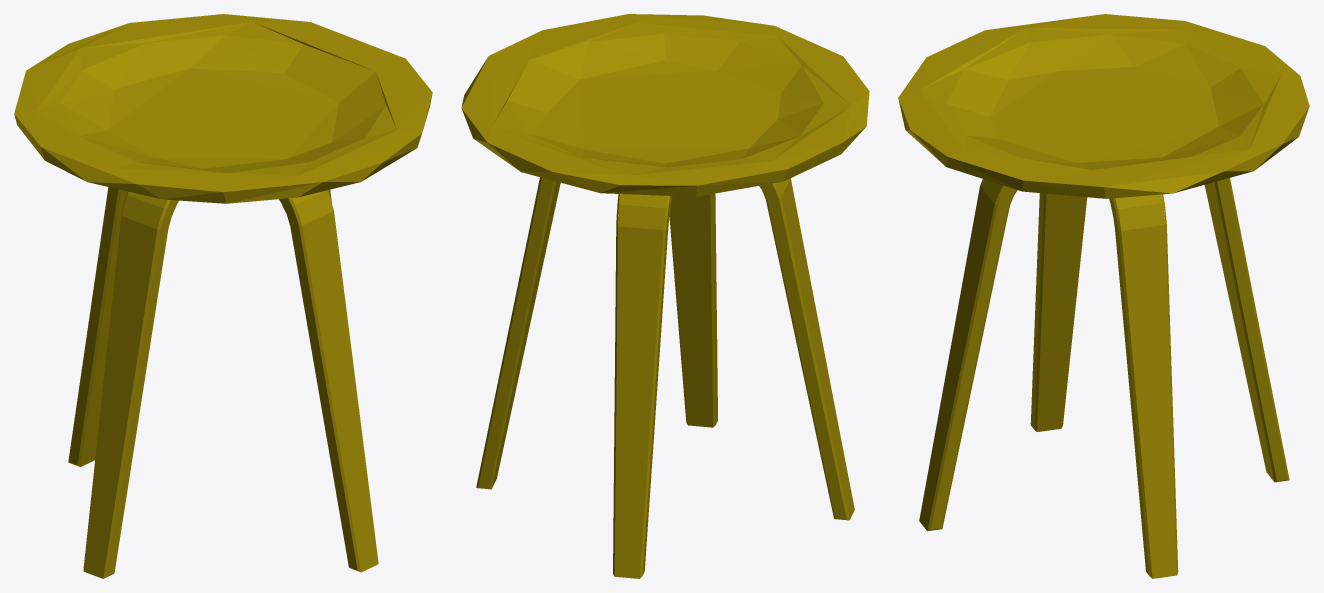
Rendered from ce6e8a41-aeb3-4b38-a860-60aa5e998ae1.glb.
3 renders of one model, left to right at view 1: azimuth 30°, elevation 25°; view 2: azimuth 150°, elevation 25°; view 3: azimuth 270°, elevation 25°, orthographic. The views are drawn at different scales.
Parts seen in each view (by area): view 1: stool; view 2: stool; view 3: stool.
Part boxes in pixels (bbox=[...]): stool: bbox=[14, 14, 432, 578]; stool: bbox=[461, 14, 869, 578]; stool: bbox=[898, 14, 1309, 578].
Size of the model in its own units: 149 by 161 by 150.
